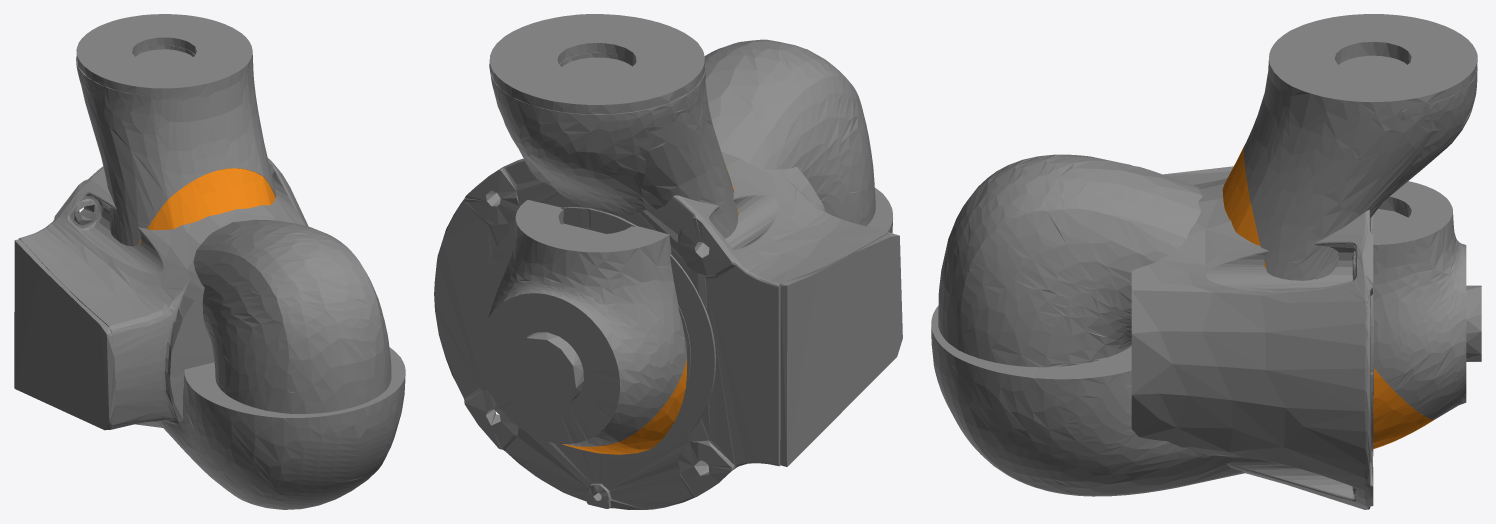
Rendered from arm.glb.
The picture shows the model from 3 angles, left to right: view 1: azimuth 30°, elevation 25°; view 2: azimuth 150°, elevation 25°; view 3: azimuth 270°, elevation 25°; orthographic projection. The views are drawn at different scales.
Parts seen in each view (by area): view 1: b1, b3, b4, b2, b5; view 2: b1, b7, b3, b4, b5, b2; view 3: b1, b3, b4, b2, b7, b5.
Part boxes in pixels (bbox=[...]): b1: bbox=[14, 158, 308, 430]; b3: bbox=[76, 14, 276, 246]; b4: bbox=[193, 219, 391, 413]; b2: bbox=[157, 347, 405, 509]; b5: bbox=[76, 45, 194, 105]; b1: bbox=[434, 151, 902, 509]; b7: bbox=[479, 200, 686, 454]; b3: bbox=[480, 14, 738, 459]; b4: bbox=[704, 39, 875, 225]; b5: bbox=[490, 52, 705, 384]; b2: bbox=[481, 187, 893, 459]; b1: bbox=[1131, 166, 1373, 509]; b3: bbox=[1222, 14, 1477, 455]; b4: bbox=[938, 154, 1202, 367]; b2: bbox=[931, 215, 1373, 496]; b7: bbox=[1371, 181, 1481, 448]; b5: bbox=[1336, 62, 1477, 394].
Size of the model in its own units: 0.2576 by 0.3127 by 0.3587.
